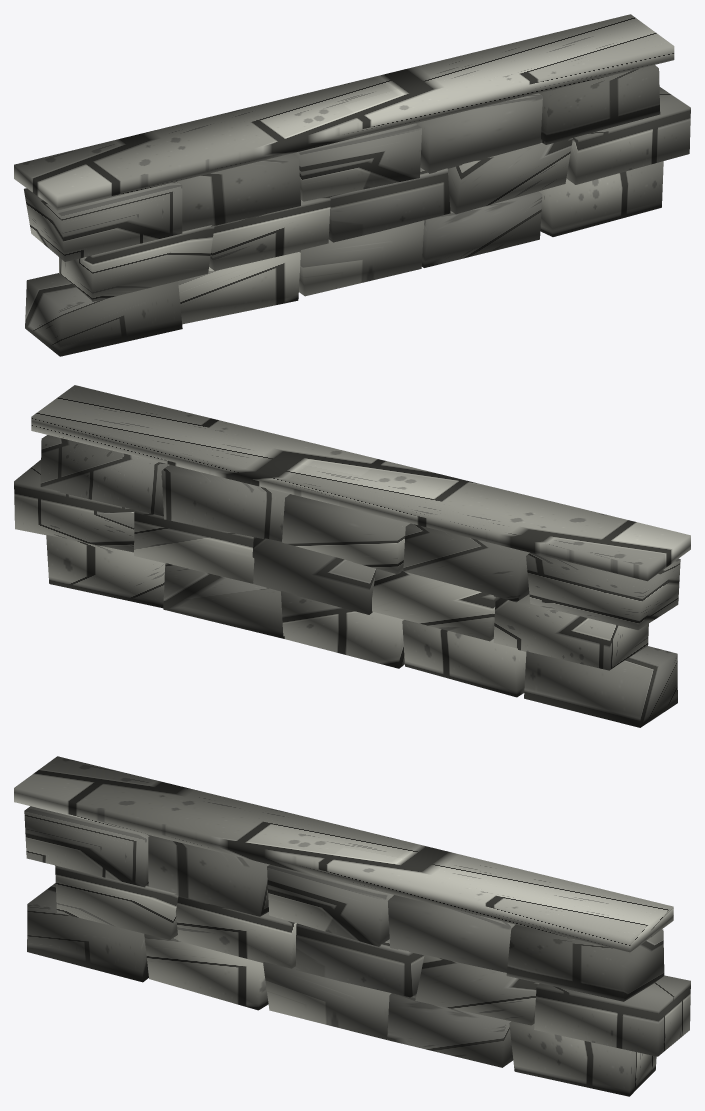
Rendered from stone_wall.glb.
3 views of the same model, one above another, from view 1: azimuth 30°, elevation 25°; view 2: azimuth 150°, elevation 25°; view 3: azimuth 330°, elevation 25° (orthographic).
Parts seen in each view (by area): view 1: geometry_1, geometry_2, geometry_0; view 2: geometry_1, geometry_2, geometry_0; view 3: geometry_1, geometry_2, geometry_0.
Part boxes in pixels (box(x1,y1,x2,y2)): geometry_1: box(24, 87, 690, 324); geometry_2: box(14, 14, 674, 210); geometry_0: box(25, 65, 660, 356); geometry_1: box(14, 460, 680, 697); geometry_2: box(31, 385, 690, 581); geometry_0: box(40, 435, 677, 727); geometry_1: box(24, 806, 690, 1096); geometry_2: box(14, 756, 673, 952); geometry_0: box(27, 835, 664, 1067).
Bounding box in the file's own units: 4.25 × 1.05 × 0.5.
Materials: 3 (3 with a texture image).
